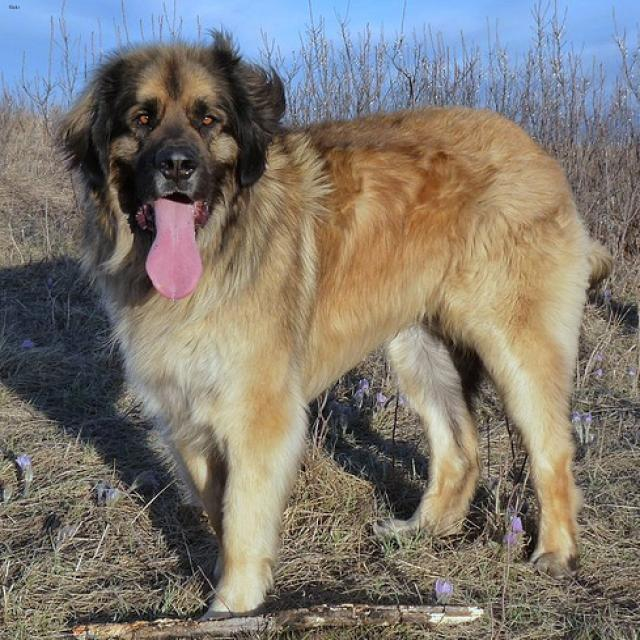dog-leonberger: (35, 32, 624, 634)
